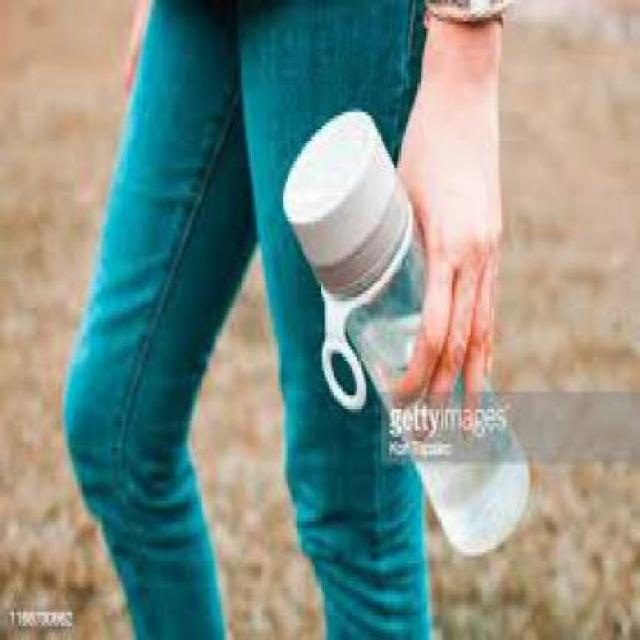Drinking: (292, 108, 540, 567)
